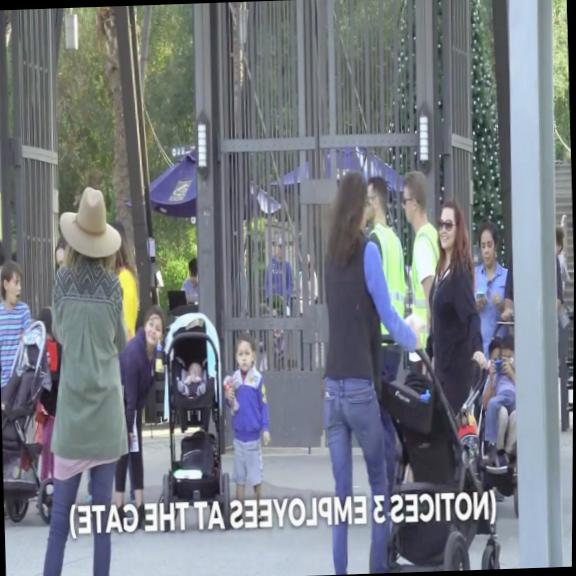safety_vest: (366, 223, 409, 346), (409, 219, 444, 350)
